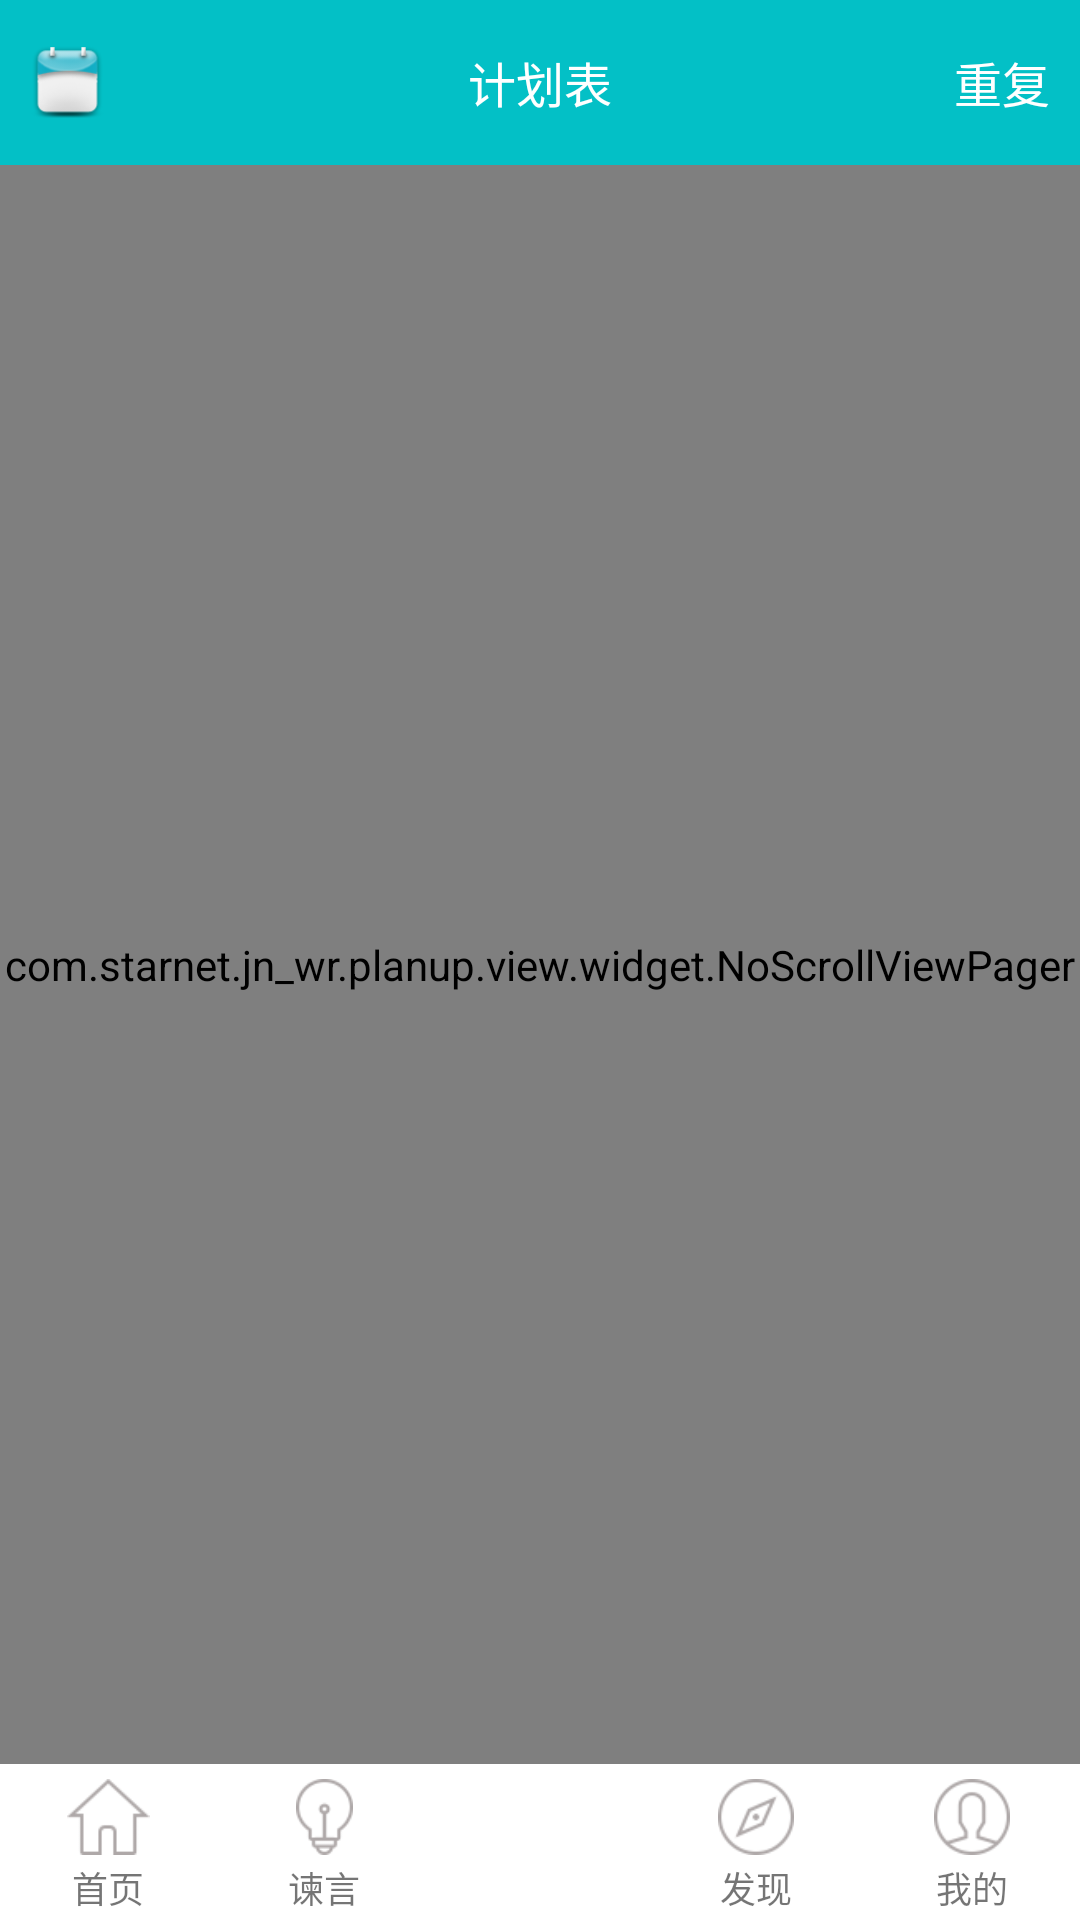

Icons on this 1080 x 1920 Android screen, each with the point to tap as [x,y]:
calender: [67,82]
